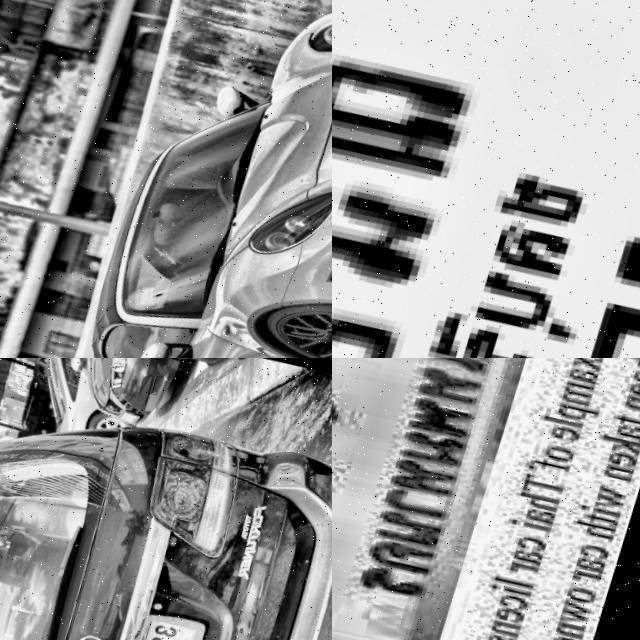license-plate: (332, 0, 640, 358), (332, 358, 572, 640), (110, 612, 207, 640)
